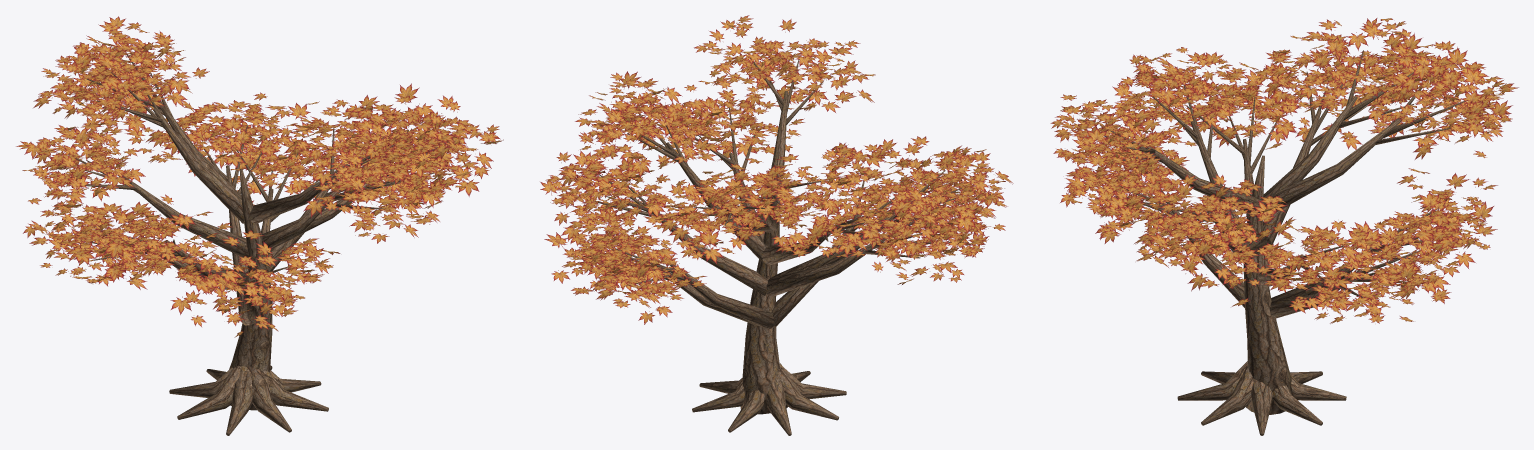
Rendered from Maple_Crafted_1.fbx.
3 renders of one model, left to right at view 1: azimuth 30°, elevation 25°; view 2: azimuth 150°, elevation 25°; view 3: azimuth 270°, elevation 25°, orthographic. The views are drawn at different scales.
Visible parts, largest first — view 1: Maple_Crafted_1_Leaves, Maple_Crafted_1_Wood; view 2: Maple_Crafted_1_Leaves, Maple_Crafted_1_Wood; view 3: Maple_Crafted_1_Leaves, Maple_Crafted_1_Wood.
Part boxes in pixels (bbox=[...]): Maple_Crafted_1_Leaves: bbox=[16, 16, 503, 337]; Maple_Crafted_1_Wood: bbox=[67, 52, 447, 435]; Maple_Crafted_1_Leaves: bbox=[540, 15, 1013, 324]; Maple_Crafted_1_Wood: bbox=[586, 57, 961, 435]; Maple_Crafted_1_Leaves: bbox=[1050, 18, 1518, 323]; Maple_Crafted_1_Wood: bbox=[1104, 50, 1465, 435].
Size of the model in its own units: 1213 by 860 by 1126.
